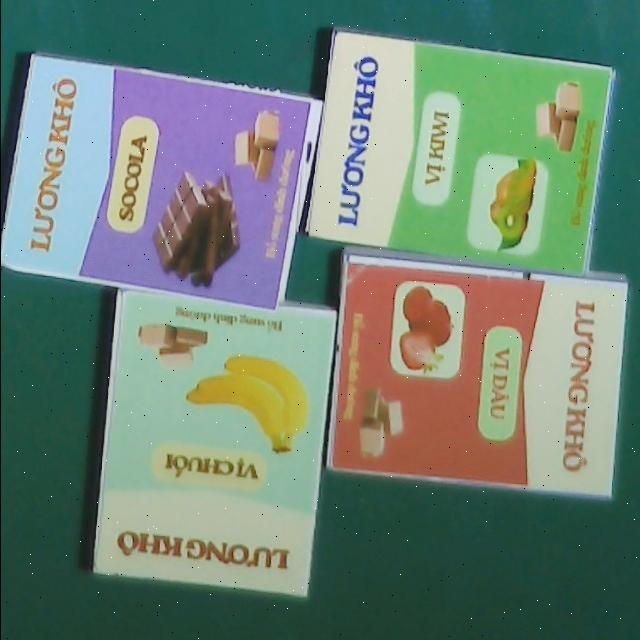chuoi: (89, 289, 335, 598)
dau: (323, 245, 628, 497)
kiwi: (307, 28, 612, 277)
socola: (0, 51, 321, 314)
